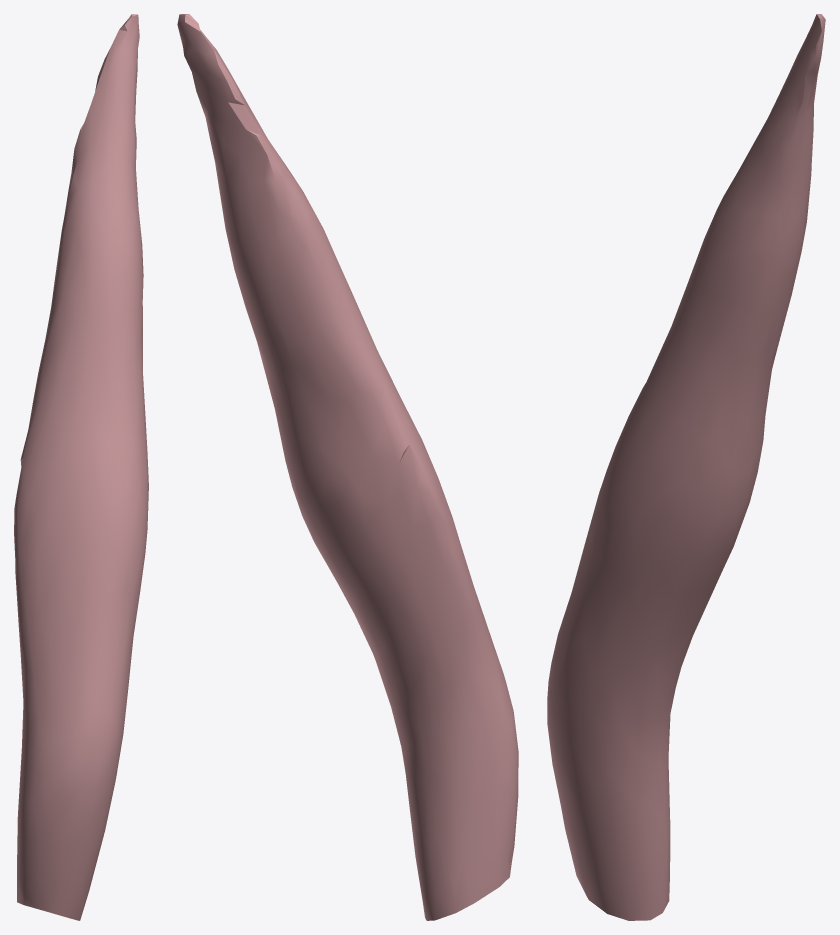
File: fma46201_mm1953.glb
3 views of the same model, side by side, from view 1: azimuth 30°, elevation 25°; view 2: azimuth 150°, elevation 25°; view 3: azimuth 270°, elevation 25° (orthographic). The views are drawn at different scales.
Parts seen in each view (by area): view 1: FMA46201_MM1953; view 2: FMA46201_MM1953; view 3: FMA46201_MM1953.
Boxes of the visible parts, x1,y1,x2,y2 form: FMA46201_MM1953: [14, 14, 148, 920]; FMA46201_MM1953: [177, 14, 518, 920]; FMA46201_MM1953: [547, 14, 825, 920].
Bounding box in the file's own units: 0.014 × 0.0523 × 0.0133.
